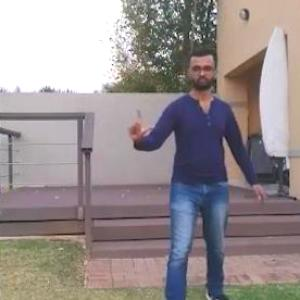land_hand: (126, 102, 161, 147)
